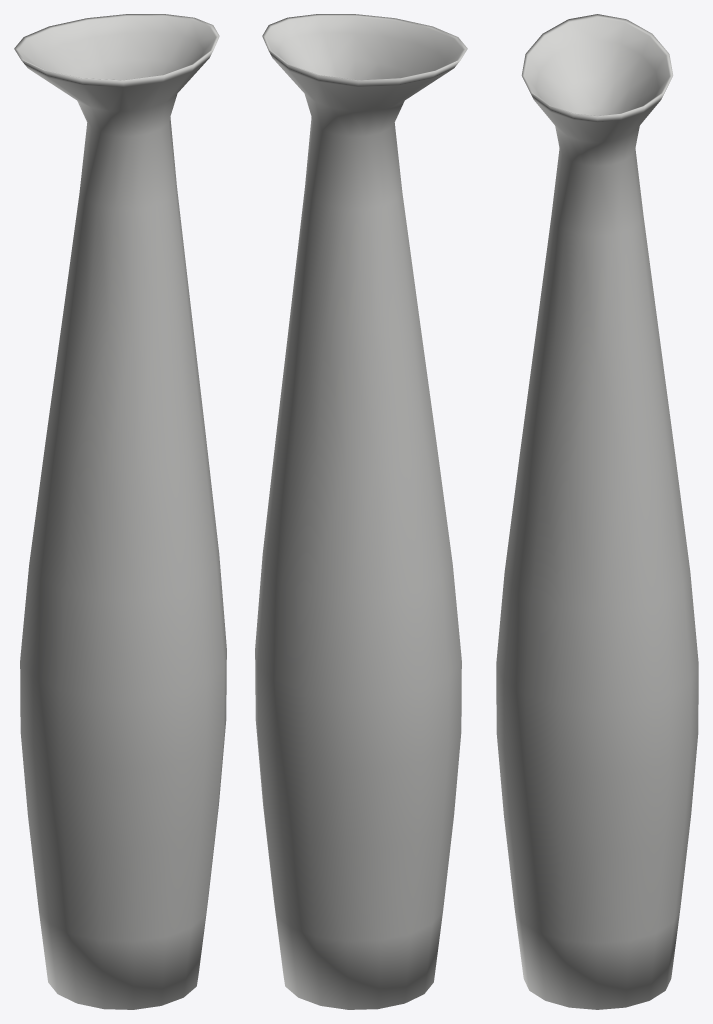
The model's file is SmallWhitePots004.FBX.
3 views of the same model, side by side, from view 1: azimuth 30°, elevation 25°; view 2: azimuth 150°, elevation 25°; view 3: azimuth 270°, elevation 25° (orthographic). The views are drawn at different scales.
Visible parts, largest first — view 1: SmallWhitePots004; view 2: SmallWhitePots004; view 3: SmallWhitePots004.
Part boxes in pixels (bbox=[...]): SmallWhitePots004: bbox=[14, 14, 226, 1009]; SmallWhitePots004: bbox=[255, 14, 467, 1009]; SmallWhitePots004: bbox=[496, 14, 698, 1009].
Size of the model in its own units: 0.2227 by 1.04 by 0.2087.
Materials: 1 (1 with a texture image).
